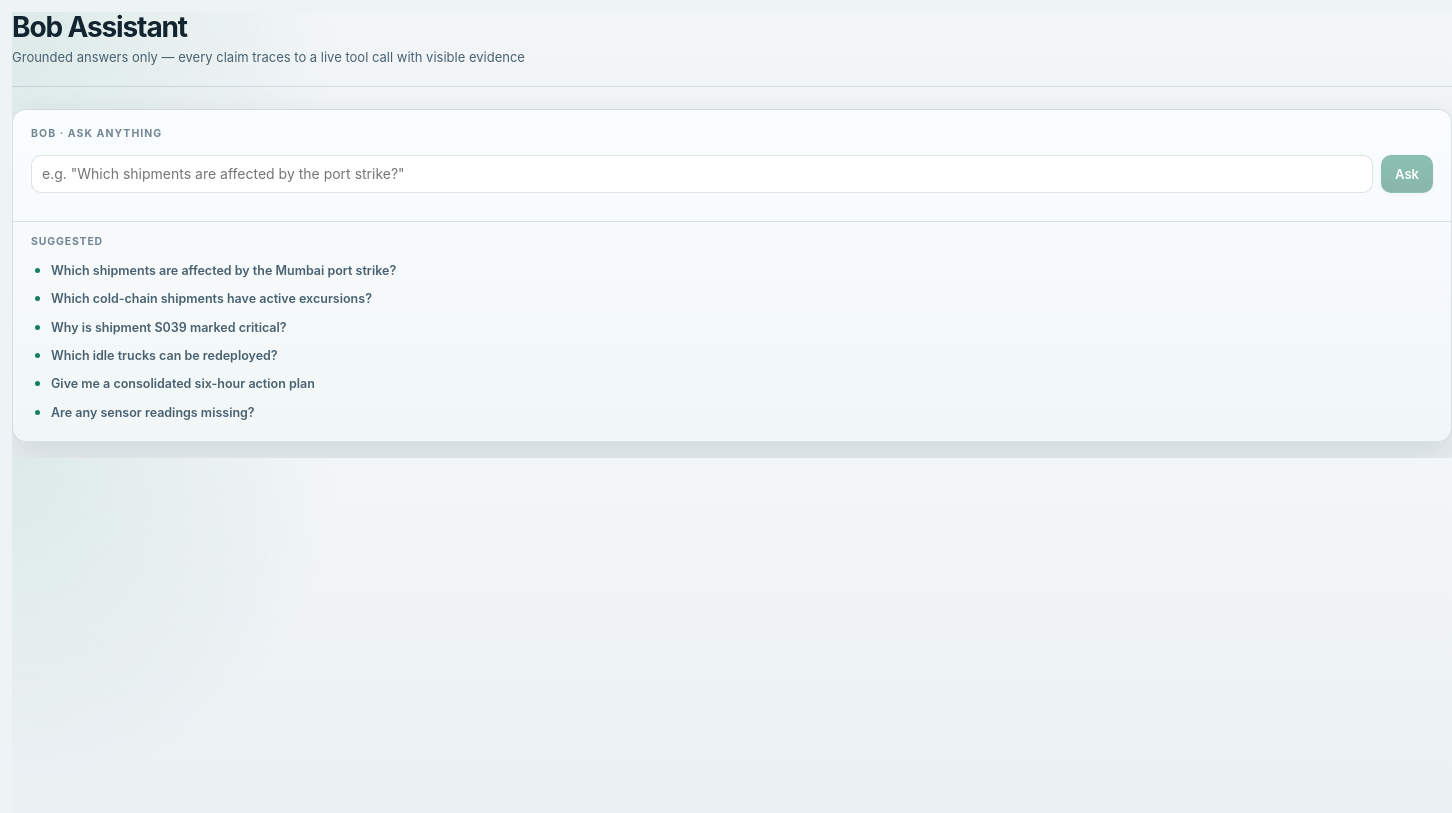
Bob chat LLM status › labels a grounded LLM answer and shows the evidence
Step 1. Type "Which disruptions are active?" into the field with placeholder "e.g. \"Which shipments are affected by the port strike?\"" → (702, 174), box [31,155,1373,193]
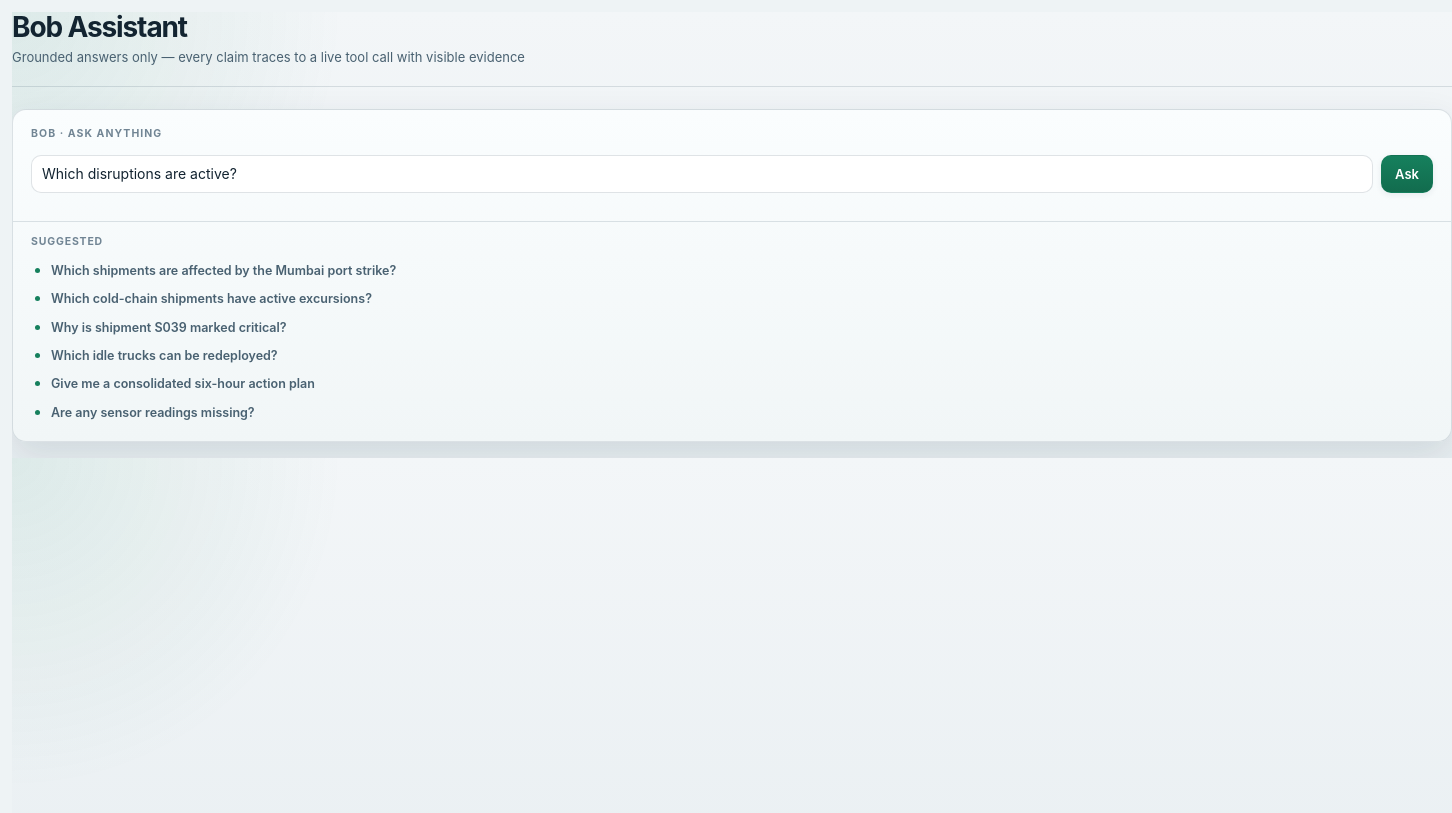
Step 2. Click the button "Ask" → (1407, 174), box [1381,155,1433,193]
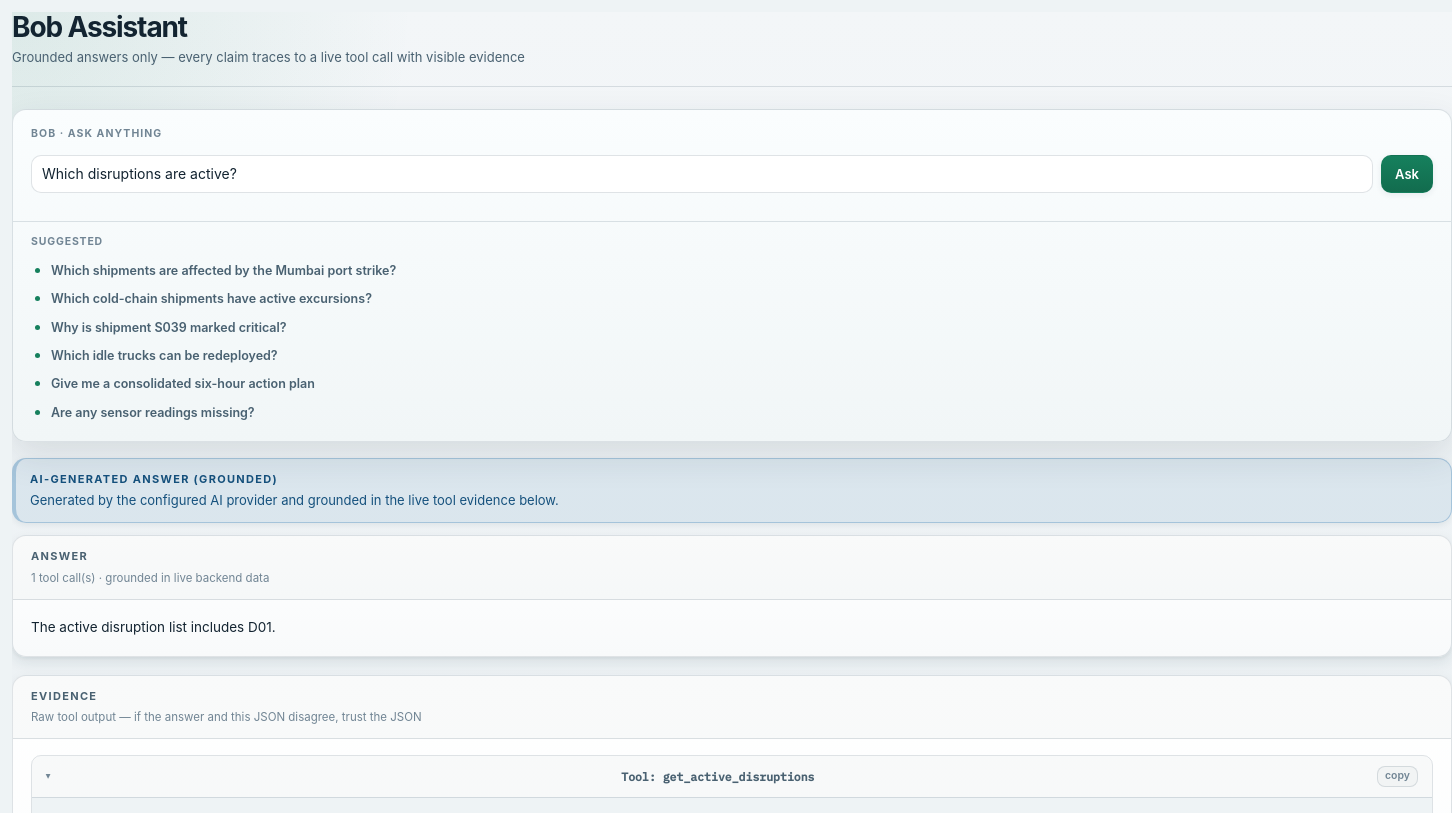
Result: the text "AI-generated answer (grounded)" is shown at [30,472,278,486]
Result: the text "grounded in the live tool evidence" is shown at [30,492,559,508]
Result: the text "The active disruption list includes D01." is shown at [31,619,276,635]
